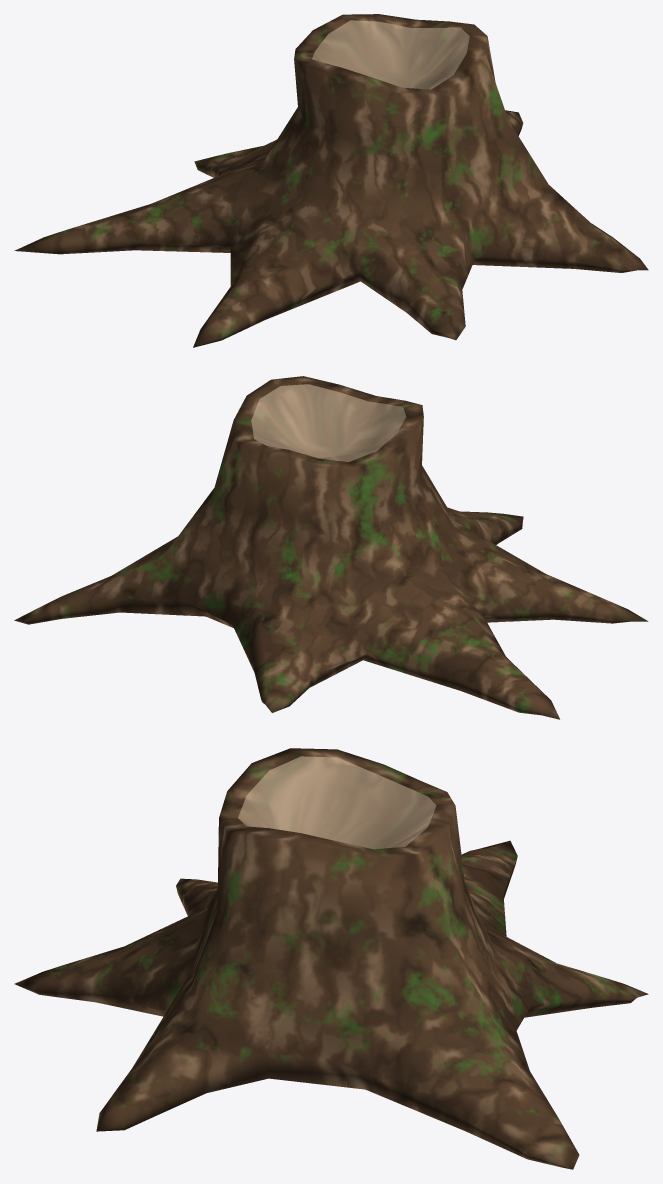
File: DeadTreeTrunk.fbx
The picture shows the model from 3 angles, top to bottom: view 1: azimuth 30°, elevation 25°; view 2: azimuth 150°, elevation 25°; view 3: azimuth 270°, elevation 25°; orthographic projection. The views are drawn at different scales.
Parts seen in each view (by area): view 1: DeadTreeTrunk; view 2: DeadTreeTrunk; view 3: DeadTreeTrunk.
Part boxes in pixels (x1=…): DeadTreeTrunk: x1=14, y1=14, x2=648, y2=347; DeadTreeTrunk: x1=14, y1=376, x2=648, y2=719; DeadTreeTrunk: x1=14, y1=748, x2=648, y2=1169.
Size of the model in its own units: 248 by 88.98 by 210.
